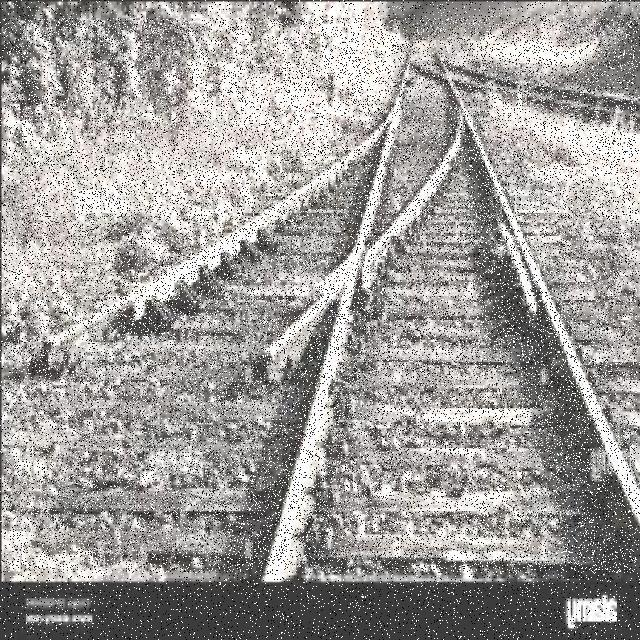rail: (4, 18, 637, 573)
